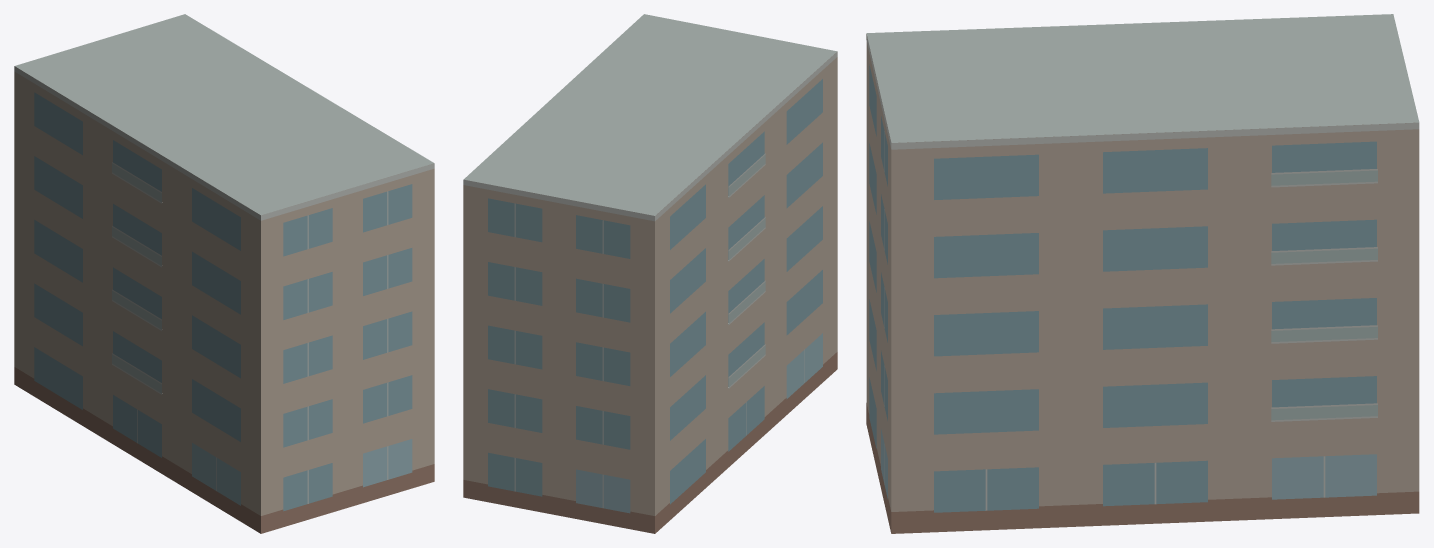
Rendered from survey-upis-32969789.glb.
3 renders of one model, left to right at view 1: azimuth 30°, elevation 25°; view 2: azimuth 150°, elevation 25°; view 3: azimuth 270°, elevation 25°, orthographic. The views are drawn at different scales.
Visible parts, largest first — view 1: survey-upis-32969789.tmp; view 2: survey-upis-32969789.tmp; view 3: survey-upis-32969789.tmp.
Boxes of the visible parts, x1,y1,x2,y2 form: survey-upis-32969789.tmp: [14, 14, 434, 533]; survey-upis-32969789.tmp: [463, 14, 837, 533]; survey-upis-32969789.tmp: [866, 14, 1419, 533].
Size of the model in its own units: 10.14 by 14.3 by 18.35.
